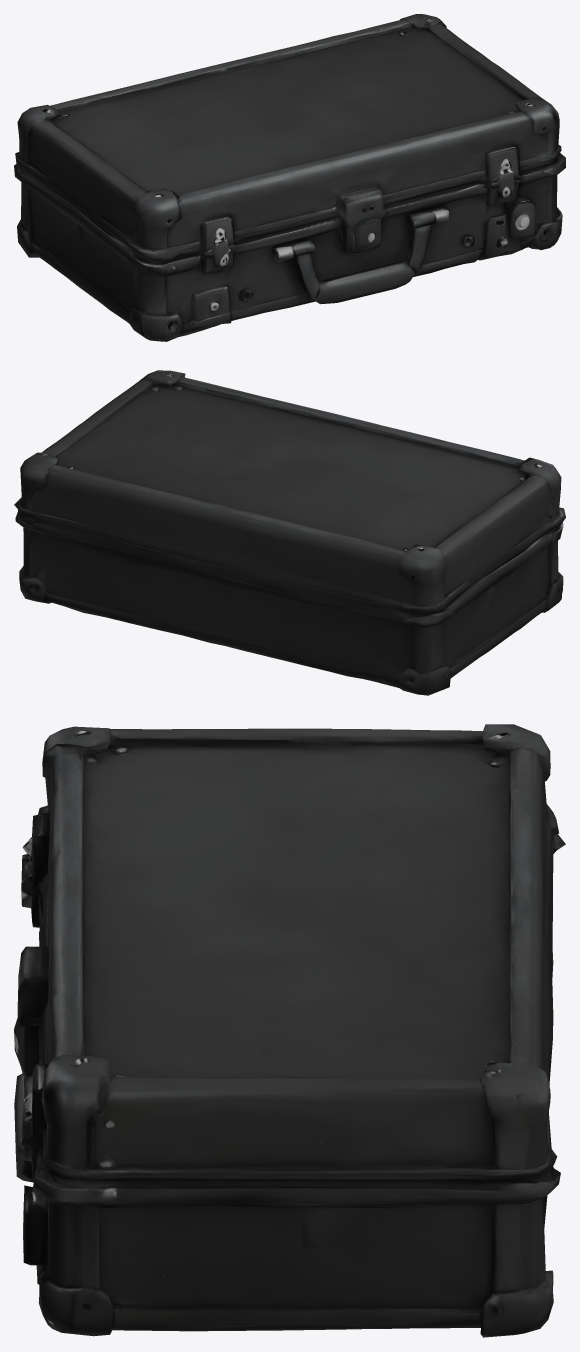
The model's file is Briefcase.fbx.
3 renders of one model, top to bottom at view 1: azimuth 30°, elevation 25°; view 2: azimuth 150°, elevation 25°; view 3: azimuth 270°, elevation 25°, orthographic. The views are drawn at different scales.
Visible parts, largest first — view 1: tripo_node_0d6fd015; view 2: tripo_node_0d6fd015; view 3: tripo_node_0d6fd015.
Part boxes in pixels (<box>): tripo_node_0d6fd015: <box>14,14,565,341</box>; tripo_node_0d6fd015: <box>14,370,565,695</box>; tripo_node_0d6fd015: <box>14,724,565,1337</box>.
Size of the model in its own units: 100 by 61.13 by 32.19.
1 material, 1 textured.
